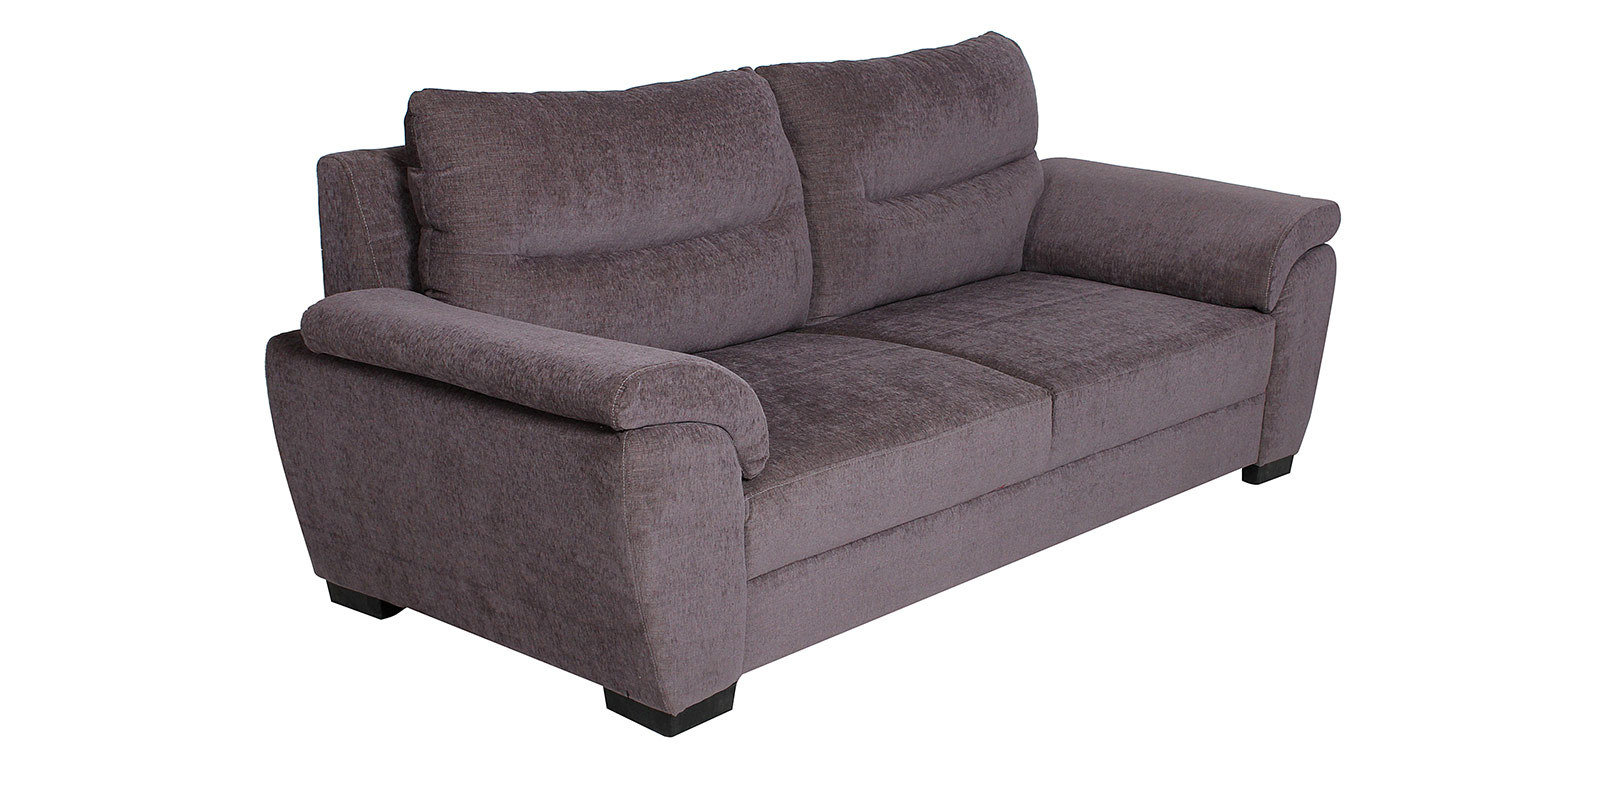Hamfir Three Seater Sofa in Brown Colour by Furniture Mind: (197, 22, 1434, 747)
